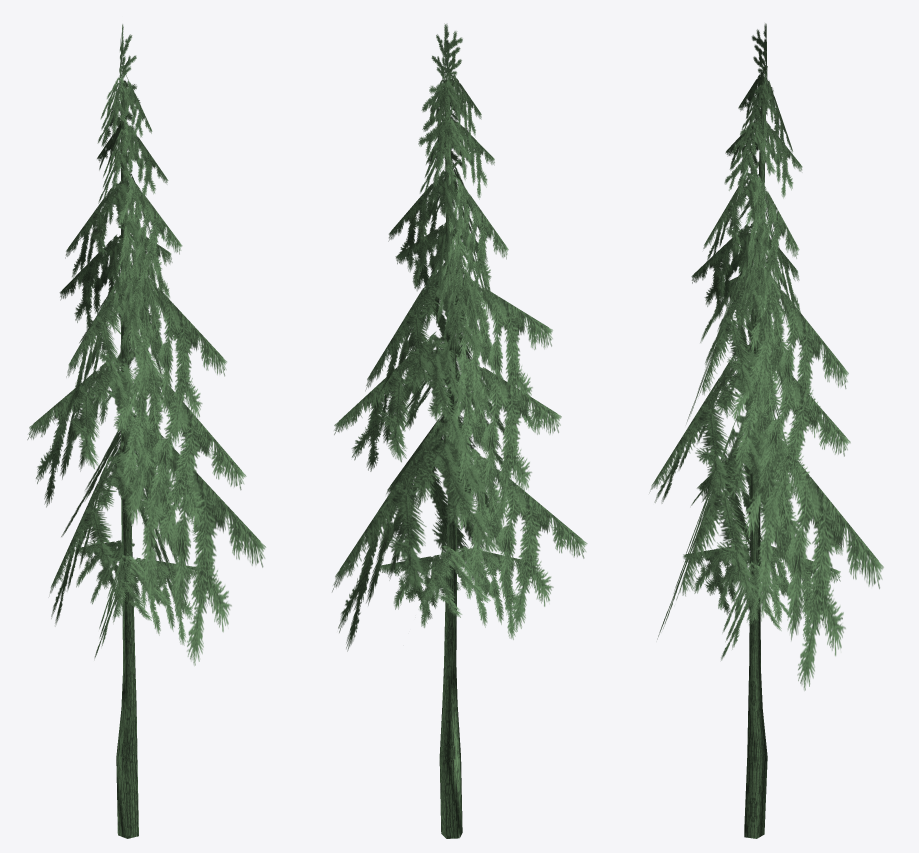
Rendered from a37_pine_b.glb.
The picture shows the model from 3 angles, left to right: view 1: azimuth 30°, elevation 25°; view 2: azimuth 150°, elevation 25°; view 3: azimuth 270°, elevation 25°; orthographic projection.
Parts seen in each view (by area): view 1: body; view 2: body; view 3: body.
Boxes of the visible parts, box(x1,y1,x2,y2) form: body: box(27, 24, 265, 838); body: box(332, 24, 587, 838); body: box(649, 23, 883, 838).
Size of the model in its own units: 1 by 3.27 by 0.9704.
1 material, 1 textured.
